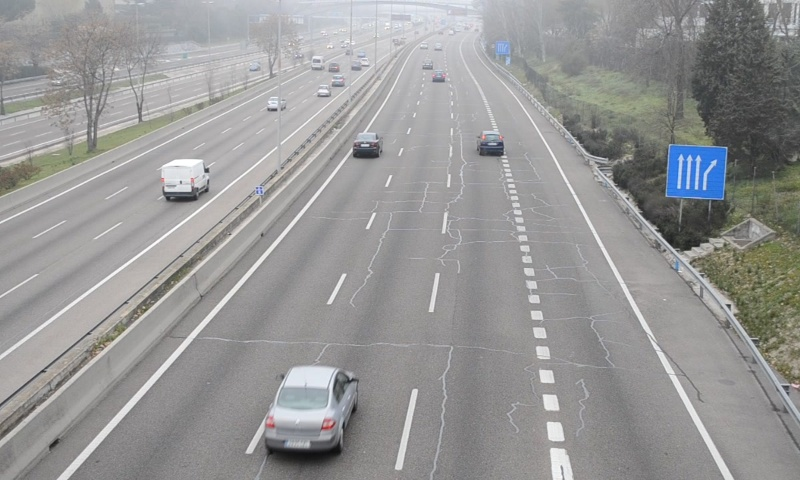car: (264, 368, 358, 452), (352, 132, 381, 156), (478, 130, 504, 155)
